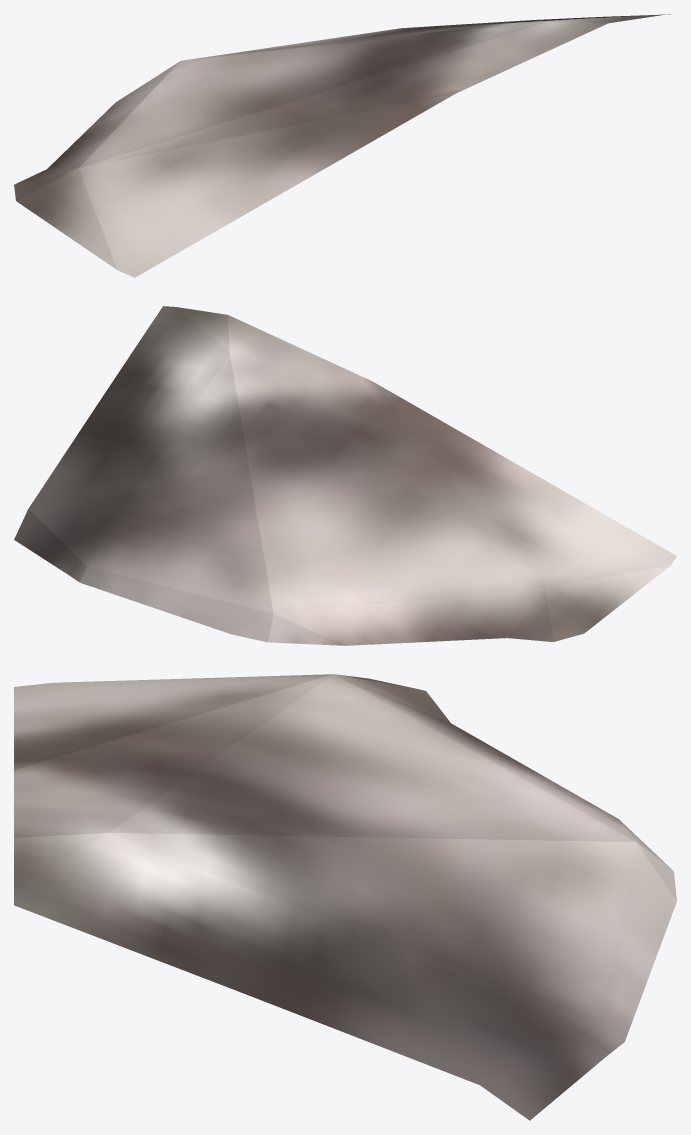
3 renders of one model, top to bottom at view 1: azimuth 30°, elevation 25°; view 2: azimuth 150°, elevation 25°; view 3: azimuth 270°, elevation 25°, orthographic. The views are drawn at different scales.
Bounding box in the file's own units: 0.1048 × 0.0252 × 0.0664.
1 material, 1 textured.
